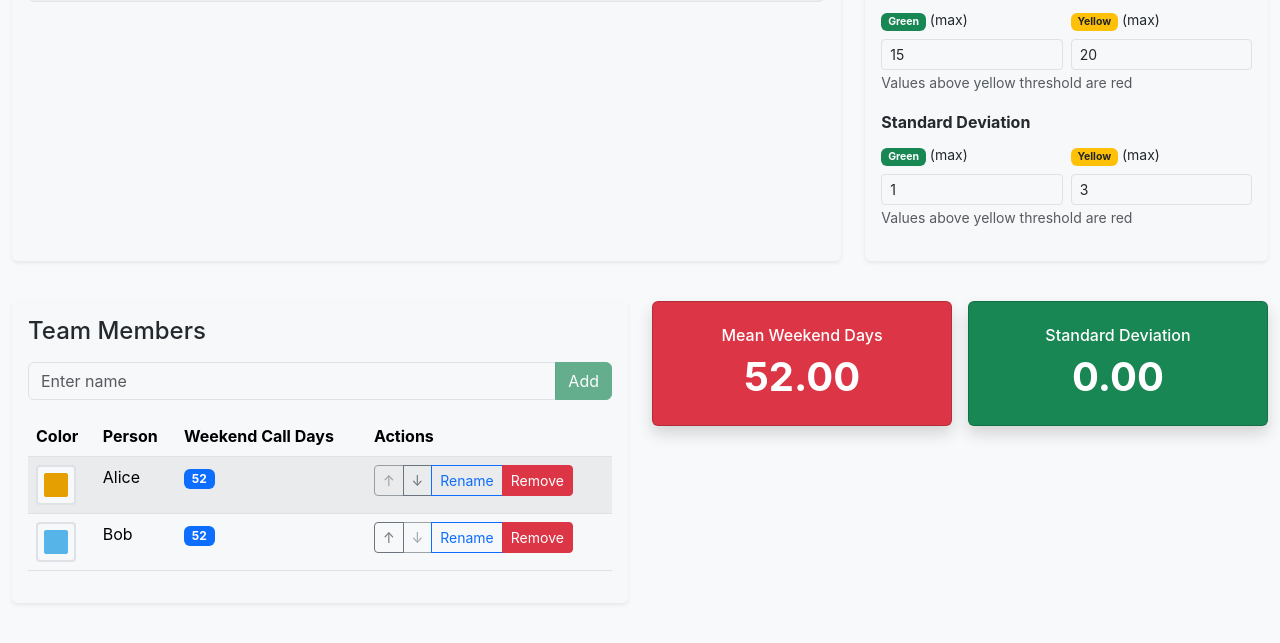
Scenario: App › localStorage functionality › updates localStorage when team members are reordered
(page scrolled)
Find the down arrow for Alice (first person)
What coordinates should you click on to do the following:
click the 1st button titled "Move Down"
I would click on:
 (417, 480)
Its box is [403,465,432,496].
(page scrolled)
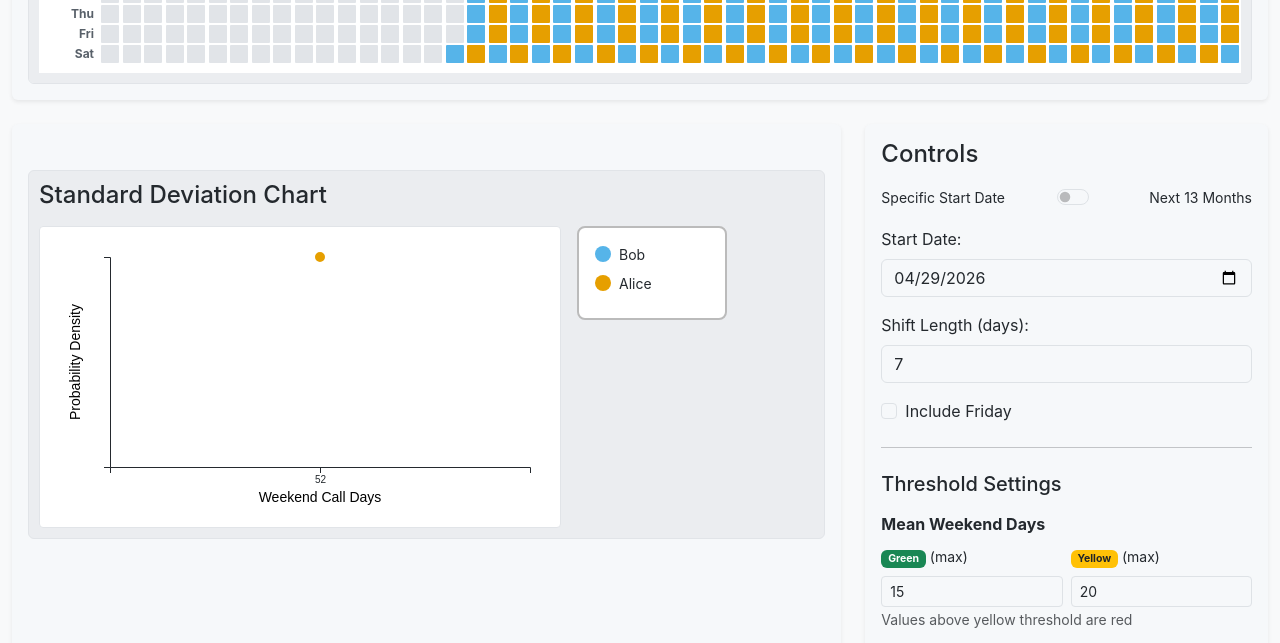
Check: the text "Bob" is shown, box [619,244,645,265]
Check: the text "Alice" is shown, box [619,273,652,294]
